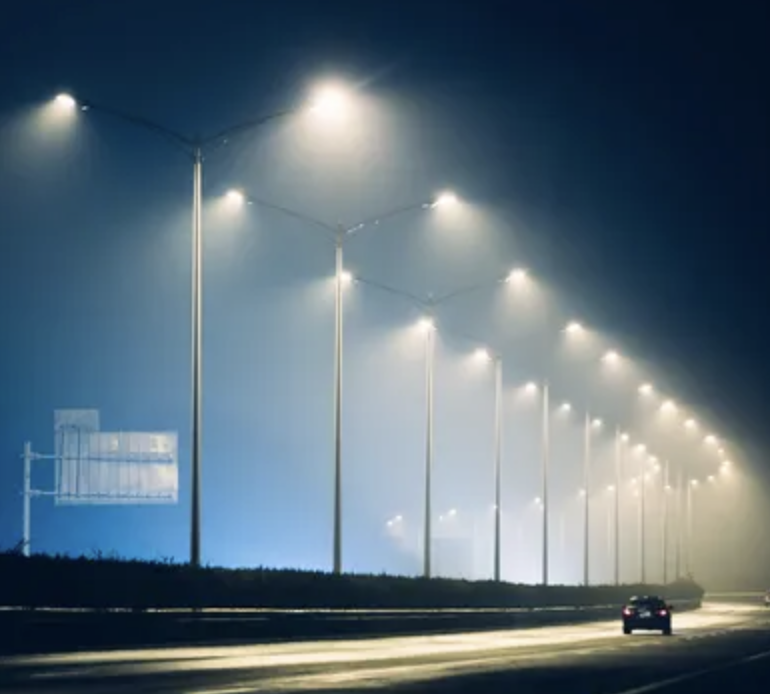LED: (292, 69, 361, 121), (33, 77, 99, 121), (427, 181, 472, 224), (493, 255, 541, 292), (211, 182, 255, 217), (553, 310, 592, 345), (327, 263, 366, 294), (632, 376, 661, 404), (600, 344, 625, 370)
